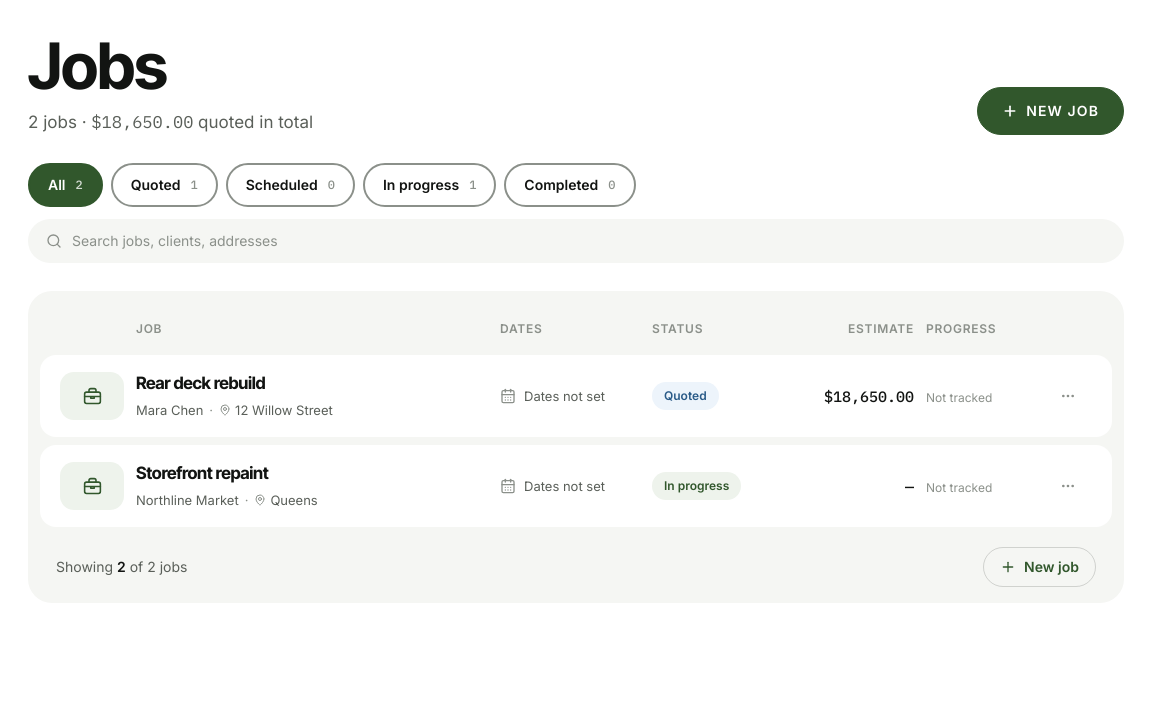
Test case: Jobs list actions and filters › shows the quoted filter count and filters by status and searchable fields
Check: the link with test id "row-job-job-quoted" is shown, box [40, 355, 1112, 437]
Click the button with test id "filter-tab-quoted": (164,185) [111, 163, 218, 207]
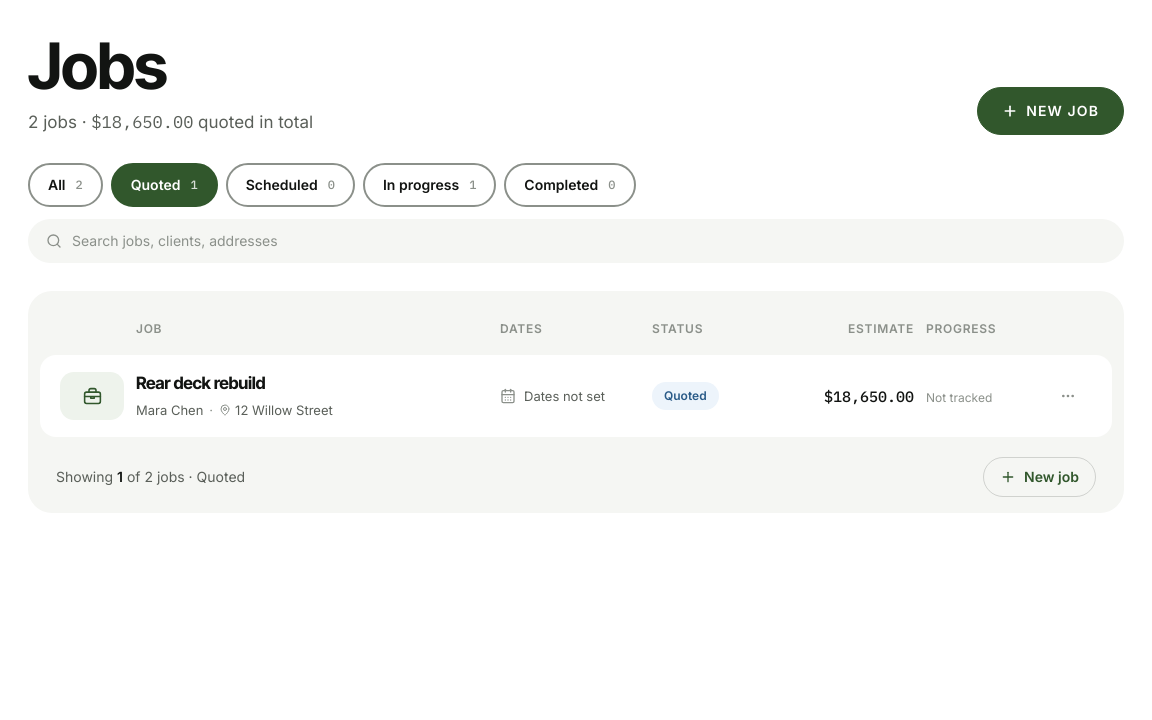
Check: the link with test id "row-job-job-quoted" is shown, box [40, 355, 1112, 437]
Check: the link with test id "row-job-job-progress" is gone
Click the button with test id "filter-tab-all": (65,185) [28, 163, 103, 207]
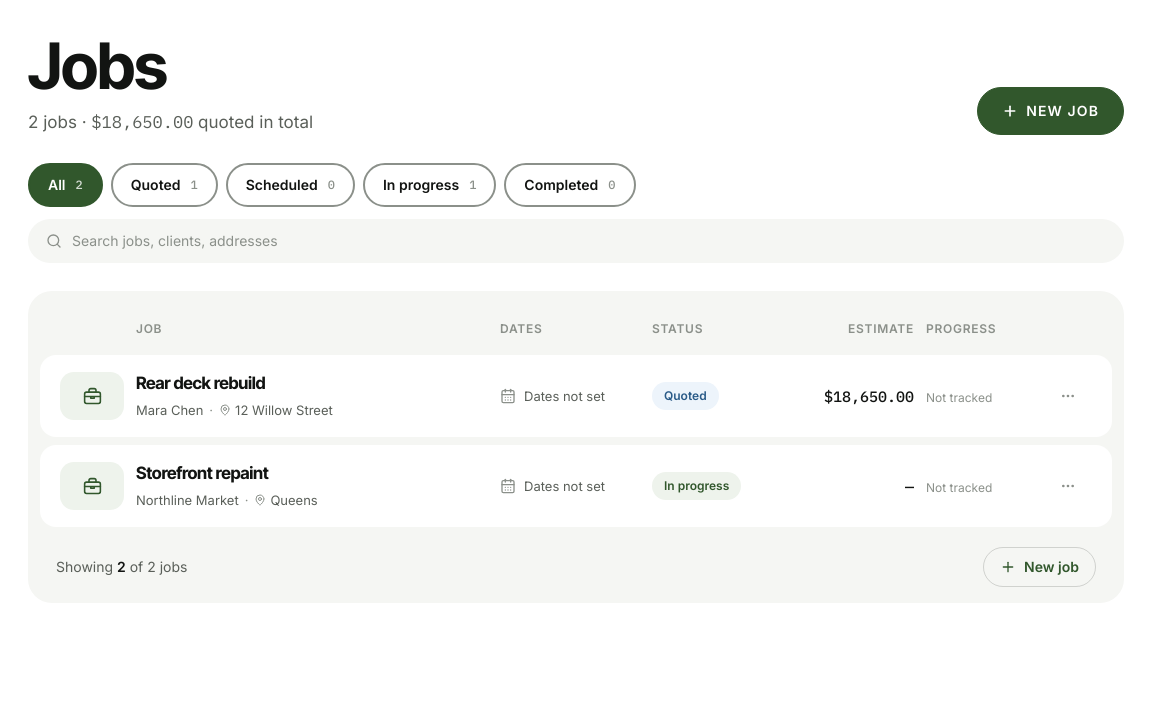
In the field with test id "input-search-jobs": (589,241) [72, 231, 1106, 251], type "northline"
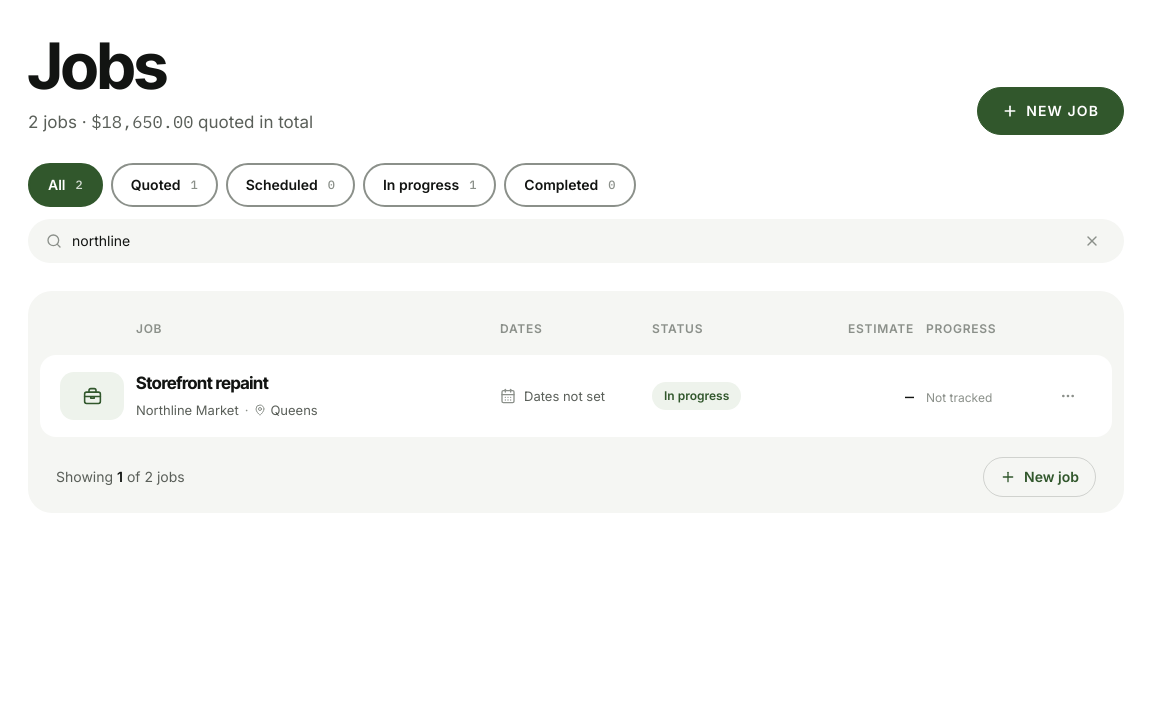
Check: the link with test id "row-job-job-progress" is shown, box [40, 355, 1112, 437]
Check: the link with test id "row-job-job-quoted" is gone
Click the button named "Clear search": (1092,241) [1078, 227, 1106, 255]
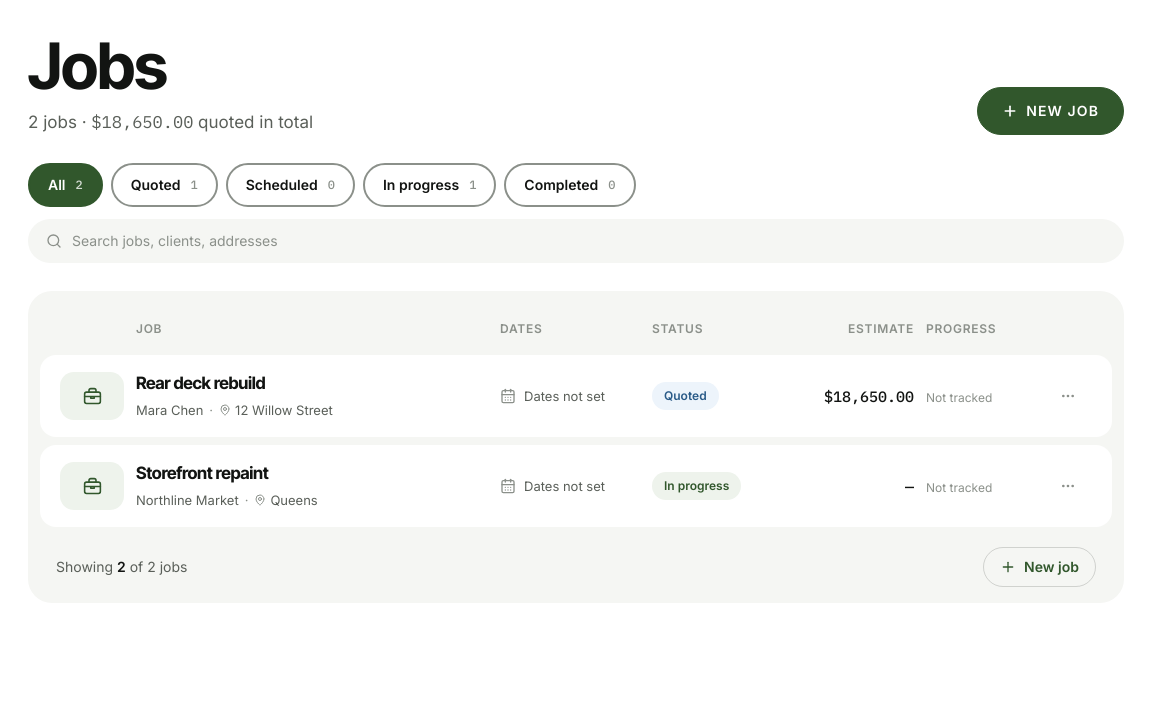
Check: the link with test id "row-job-job-progress" is shown, box [40, 445, 1112, 527]
Check: the link with test id "row-job-job-quoted" is shown, box [40, 355, 1112, 437]
